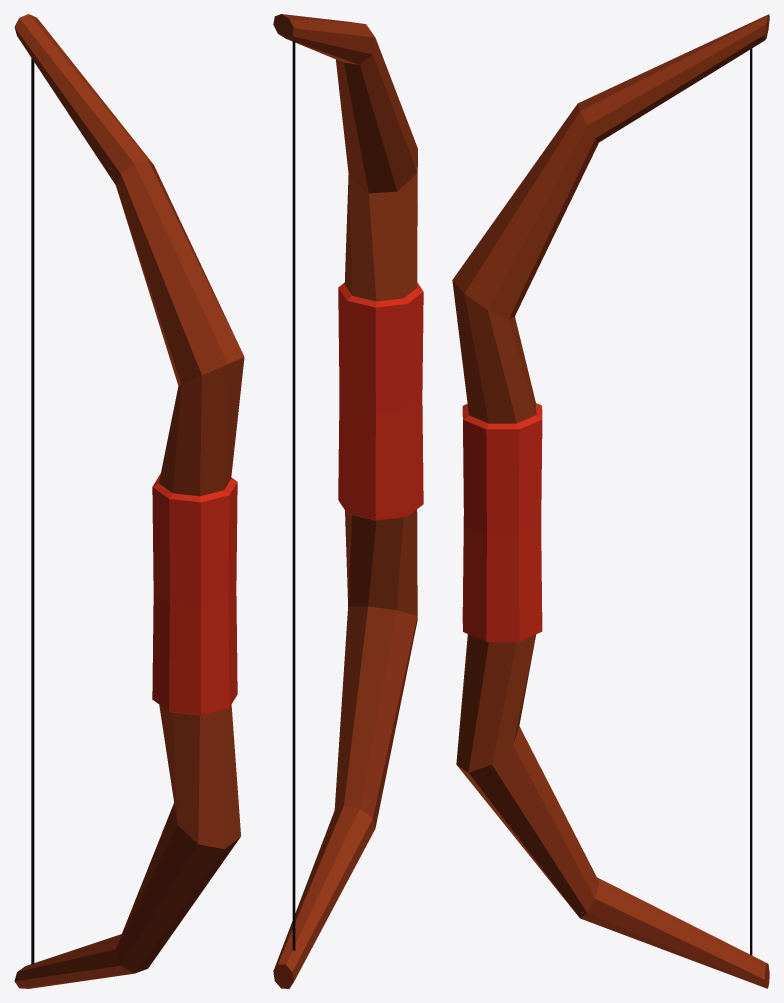
The model's file is bow.fbx.
3 renders of one model, left to right at view 1: azimuth 30°, elevation 25°; view 2: azimuth 150°, elevation 25°; view 3: azimuth 270°, elevation 25°, orthographic.
Parts seen in each view (by area): view 1: Bow; view 2: Bow; view 3: Bow.
Part boxes in pixels (left/top/right/bottom): Bow: left=14, top=14, right=244, bottom=988; Bow: left=273, top=14, right=423, bottom=988; Bow: left=452, top=14, right=769, bottom=988.
Size of the model in its own units: 9.13 by 99.06 by 29.27.
